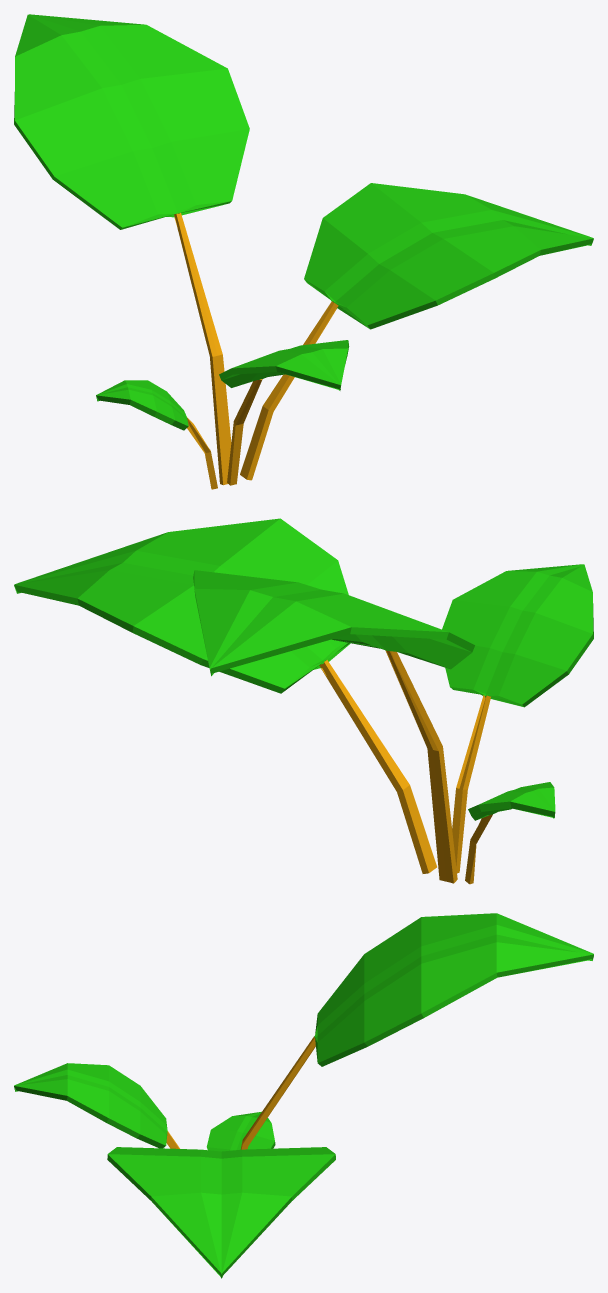
Rendered from plant2_1-1 (1).fbx.
3 renders of one model, top to bottom at view 1: azimuth 30°, elevation 25°; view 2: azimuth 150°, elevation 25°; view 3: azimuth 270°, elevation 25°, orthographic. The views are drawn at different scales.
Visible parts, largest first — view 1: Plane.001; view 2: Plane.001; view 3: Plane.001.
Part boxes in pixels (x1,y1,x2,y2): Plane.001: [14, 14, 593, 489]; Plane.001: [14, 518, 593, 884]; Plane.001: [14, 913, 593, 1278].
Size of the model in its own units: 1674 by 1164 by 1908.
Materials: 1 (1 with a texture image).
